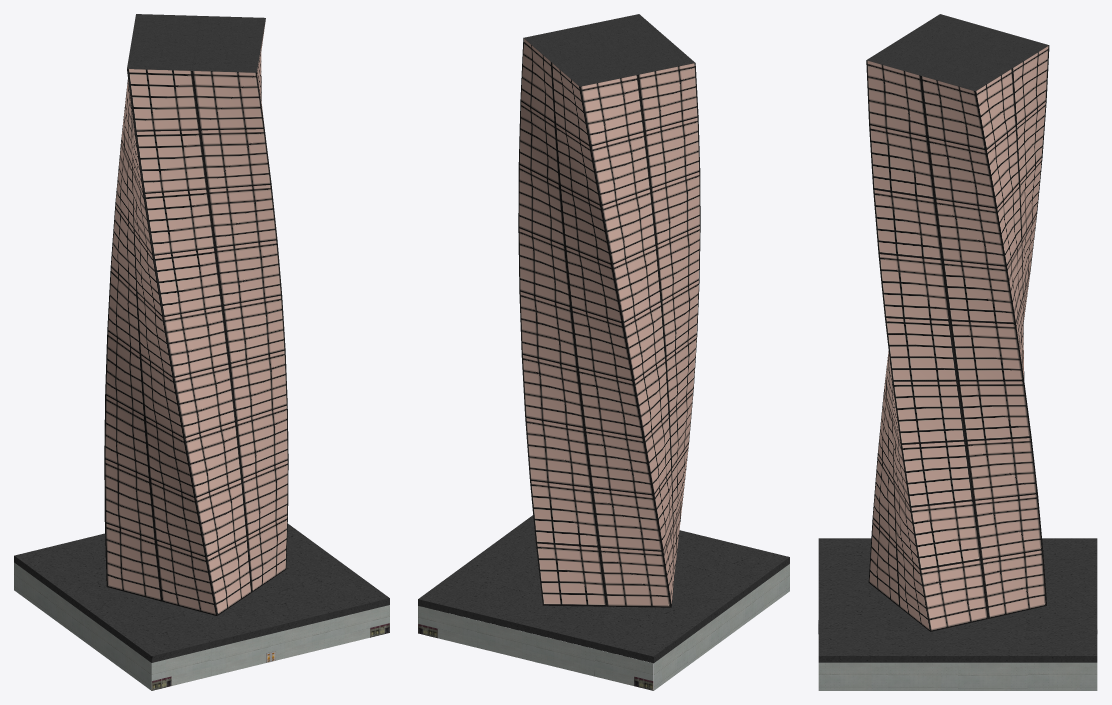
File: Building019.fbx
3 renders of one model, left to right at view 1: azimuth 30°, elevation 25°; view 2: azimuth 150°, elevation 25°; view 3: azimuth 270°, elevation 25°, orthographic. The views are drawn at different scales.
Visible parts, largest first — view 1: Building019; view 2: Building019; view 3: Building019.
Part boxes in pixels (<box>): Building019: <box>14,14,389,690</box>; Building019: <box>418,14,789,690</box>; Building019: <box>818,14,1097,690</box>.
Bounding box in the file's own units: 38.51 × 87.94 × 38.62.
